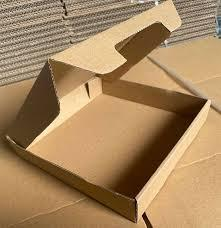box: (1, 0, 211, 226)
